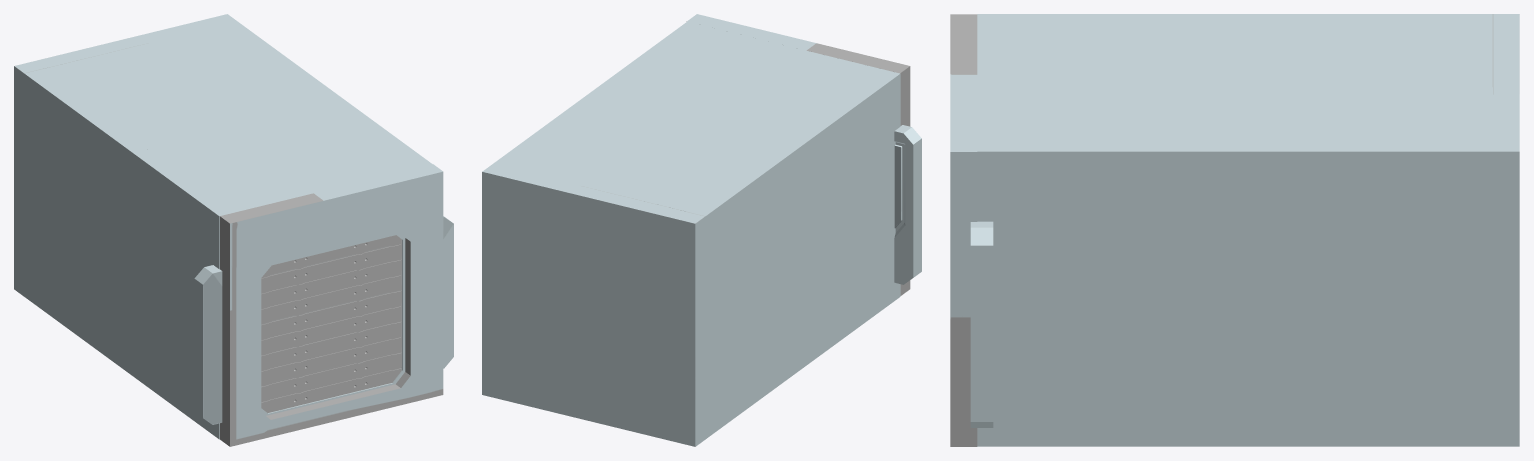
Rendered from Train Inside final last.fbx.
The picture shows the model from 3 angles, left to right: view 1: azimuth 30°, elevation 25°; view 2: azimuth 150°, elevation 25°; view 3: azimuth 270°, elevation 25°; orthographic projection. The views are drawn at different scales.
Visible parts, largest first — view 1: Cube.004, Cube.018, Cube.021, Cube.042, Cube.029, Cube.015, Cube.005, Cube.009; view 2: Cube.029, Cube.004, Cube.018, Cube.015, Cube.021; view 3: Cube.004, Cube.018, Cube.029, Cube.021, Cube.005.
Boxes of the visible parts, box(x1,y1,x2,y2) form: Cube.004: box(24, 21, 432, 439); Cube.018: box(40, 25, 416, 212); Cube.021: box(220, 164, 443, 446); Cube.042: box(261, 235, 401, 412); Cube.029: box(14, 14, 237, 296); Cube.015: box(194, 265, 222, 424); Cube.005: box(443, 216, 453, 368); Cube.009: box(261, 234, 405, 415); Cube.029: box(482, 164, 705, 446); Cube.004: box(493, 21, 900, 438); Cube.018: box(508, 25, 884, 212); Cube.015: box(894, 125, 921, 284); Cube.021: box(686, 14, 910, 295); Cube.004: box(977, 14, 1492, 446); Cube.018: box(977, 23, 1492, 141); Cube.029: box(1492, 14, 1519, 446); Cube.021: box(950, 14, 977, 446); Cube.005: box(970, 221, 993, 427).
Size of the model in its own units: 705 by 600 by 1049.
Materials: 9 (9 with a texture image).
